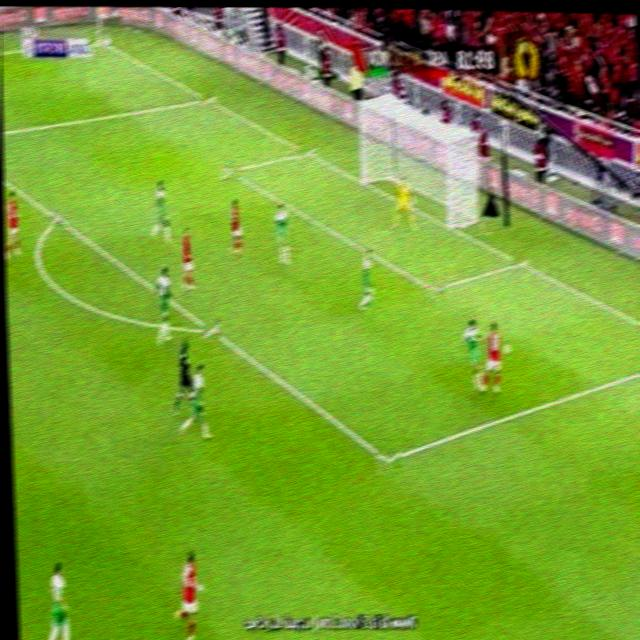bigarea_bottom_inner: (376, 441, 401, 474)
bigarea_top_outter: (199, 88, 217, 107)
bottom_arc_area_intersection: (202, 317, 220, 341)
corner: (87, 30, 111, 48)
smallarea_bottom_inner: (423, 271, 445, 302)
smallarea_bottom_outter: (512, 250, 529, 272)
smallarea_top_inner: (220, 158, 240, 181)
smallarea_top_outter: (297, 141, 317, 161)
top_arc_area_intersection: (50, 207, 68, 227)
